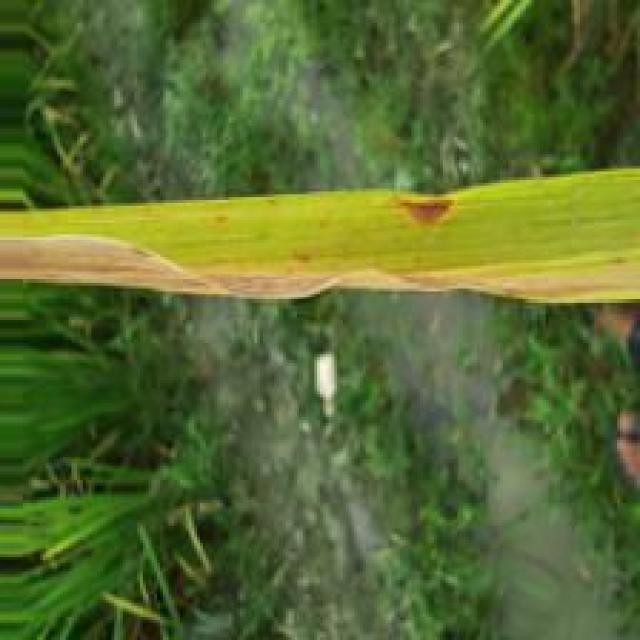Rice Tungro: (0, 235, 337, 301), (390, 197, 459, 230)
